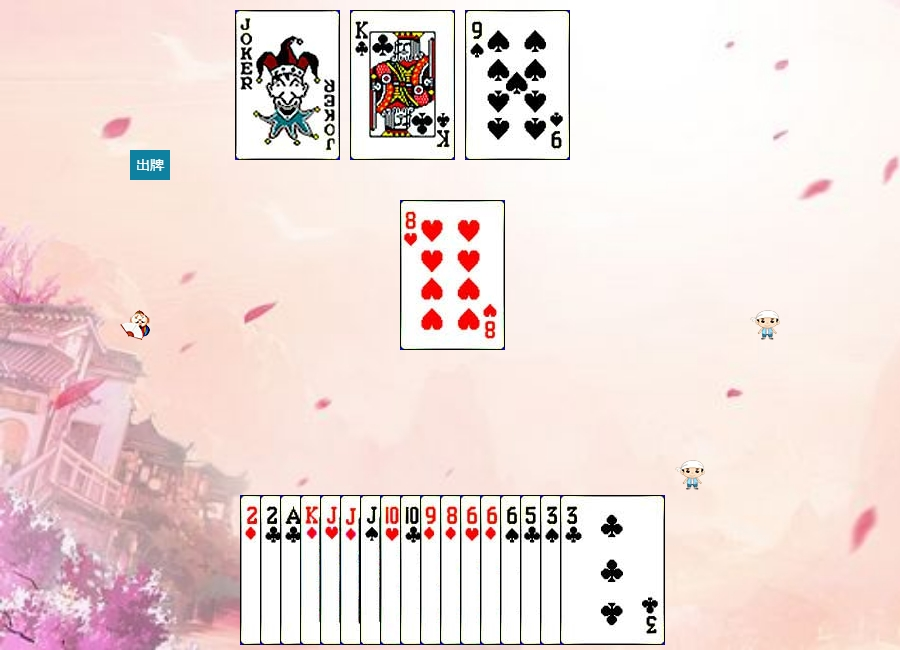10~2: (400, 495, 505, 645)
10~3: (380, 495, 485, 645)
11~1: (340, 495, 445, 645)
11~3: (320, 495, 425, 645)
11~4: (360, 495, 465, 645)
13~1: (300, 495, 405, 645)
13~2: (350, 10, 455, 160)
14~2: (280, 495, 385, 645)
15~1: (240, 495, 345, 645)
15~2: (260, 495, 365, 645)
17~3: (235, 10, 340, 160)
3~2: (560, 495, 665, 645)
3~4: (540, 495, 645, 645)
5~2: (520, 495, 625, 645)
6~1: (480, 495, 585, 645)
6~3: (460, 495, 565, 645)
6~4: (500, 495, 605, 645)
8~1: (440, 495, 545, 645)
8~3: (400, 200, 505, 350)
9~1: (420, 495, 525, 645)
9~4: (465, 10, 570, 160)
